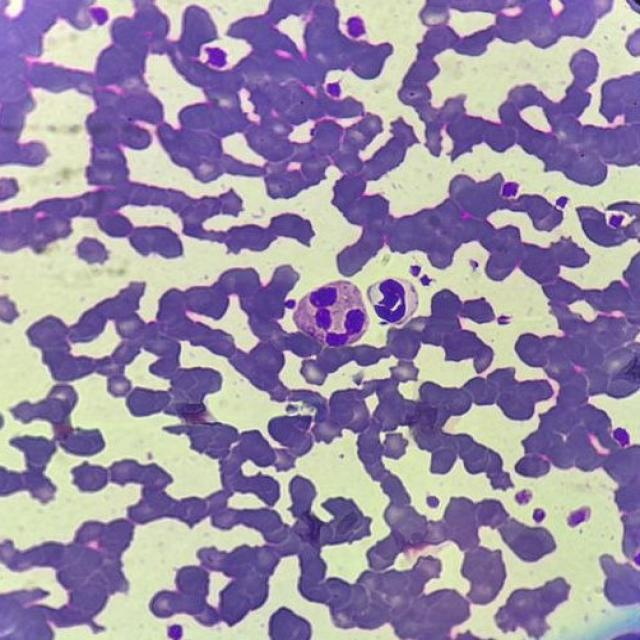Neutrofilo: (297, 281, 371, 348), (371, 275, 426, 326)
